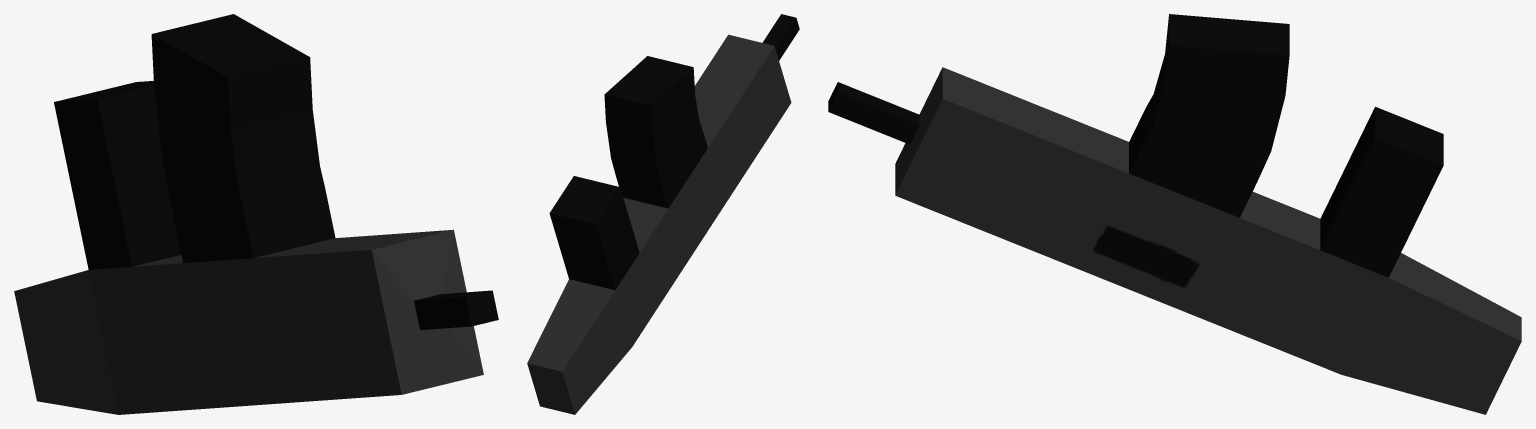
Rendered from weapon1-2.obj.
3 renders of one model, left to right at view 1: azimuth 30°, elevation 25°; view 2: azimuth 150°, elevation 25°; view 3: azimuth 270°, elevation 25°, orthographic. The views are drawn at different scales.
Parts seen in each view (by area): view 1: ArmWeapon1; view 2: ArmWeapon1; view 3: ArmWeapon1.
Boxes of the visible parts, x1,y1,x2,y2 form: ArmWeapon1: (14, 14, 498, 414); ArmWeapon1: (527, 14, 799, 414); ArmWeapon1: (828, 14, 1521, 414).
Size of the model in its own units: 0.6835 by 3.76 by 6.34.
Materials: 1 (1 with a texture image).
